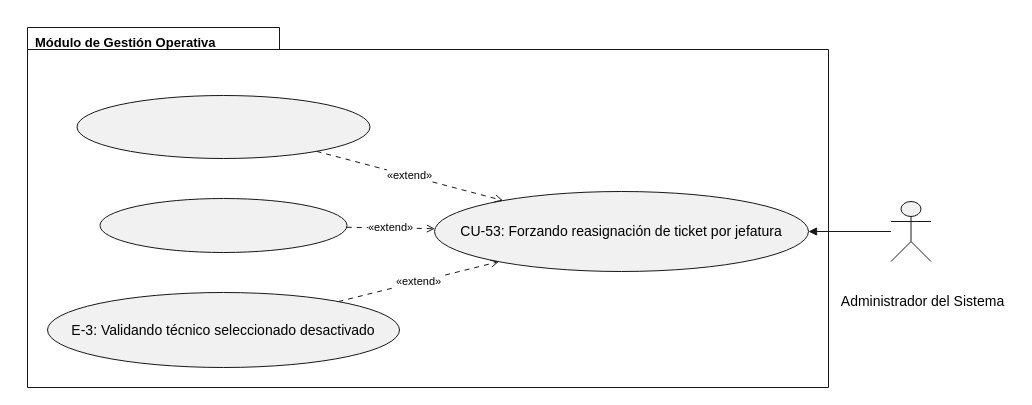
Some shapes in this 1032 by 405 pixel diagram are drawn without their labels. Each missing label, with the box of its shape:
E-1: Validando ticket en estado cerrado: (76, 94, 370, 158)
E-2: Validando motivo en blanco: (99, 198, 347, 252)
